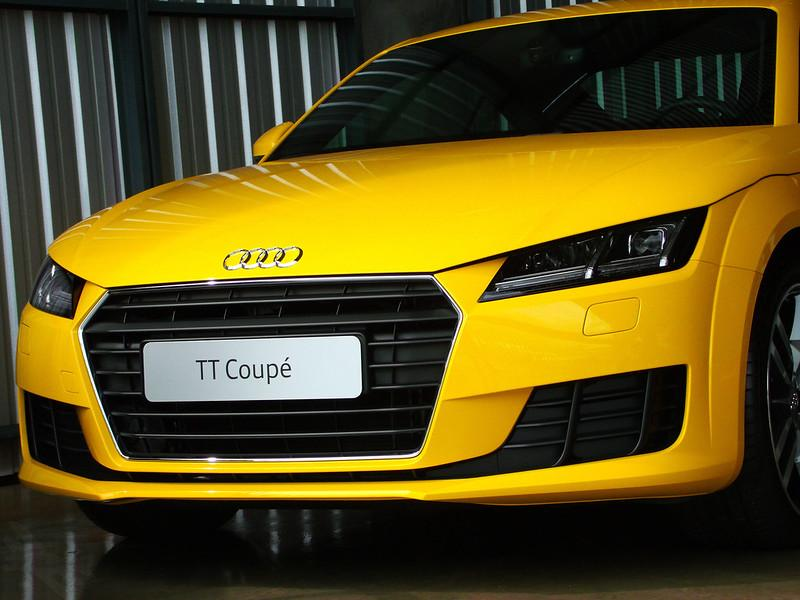windshield: (249, 5, 788, 172)
